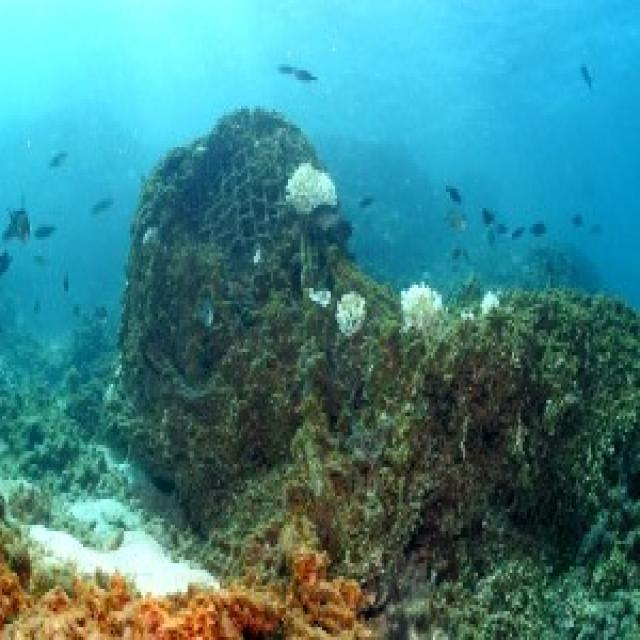Bleached: (287, 164, 336, 212), (404, 286, 443, 327), (338, 292, 366, 334)
